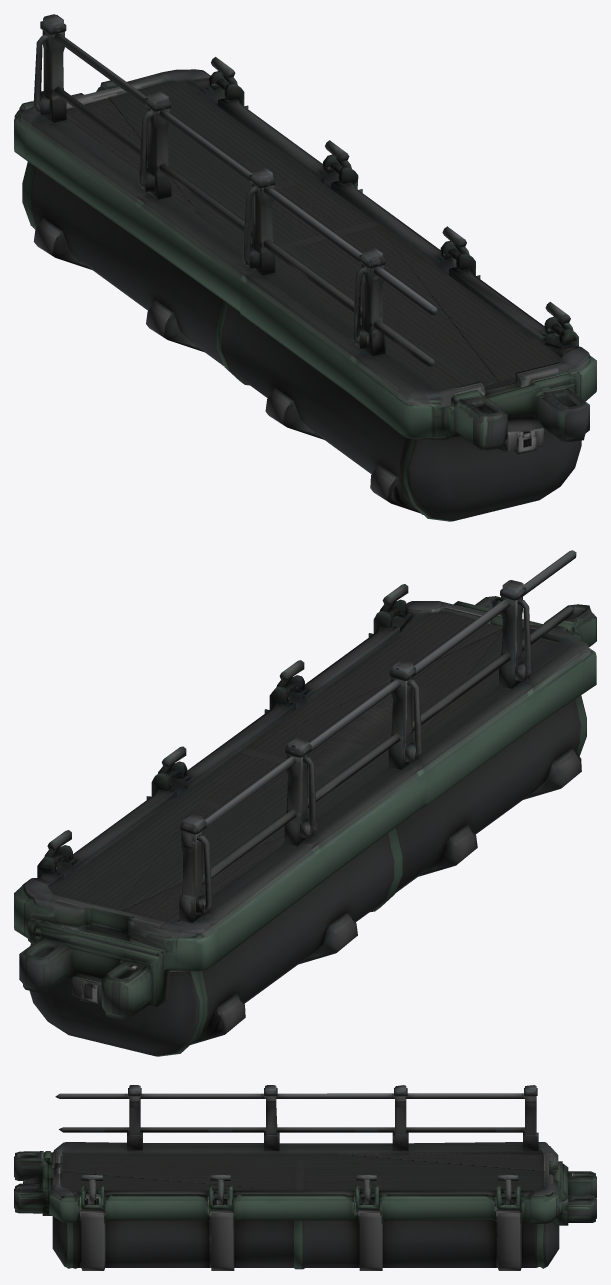
The model's file is modular_02.fbx.
3 views of the same model, one above another, from view 1: azimuth 30°, elevation 25°; view 2: azimuth 150°, elevation 25°; view 3: azimuth 270°, elevation 25° (orthographic). The views are drawn at different scales.
Visible parts, largest first — view 1: modular_02; view 2: modular_02; view 3: modular_02.
Boxes of the visible parts, left/top/right/bottom form: modular_02: left=14, top=14, right=596, bottom=521; modular_02: left=14, top=550, right=596, bottom=1056; modular_02: left=14, top=1085, right=596, bottom=1270.
Size of the model in its own units: 1.99 by 2.35 by 8.3.
1 material, 1 textured.
